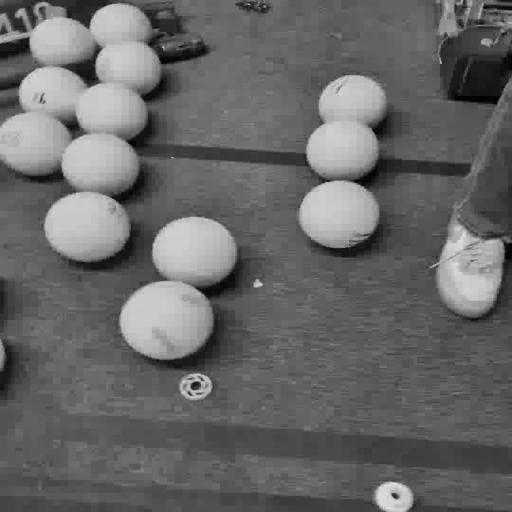fuel: (119, 281, 214, 360), (152, 217, 238, 288), (44, 192, 130, 262), (299, 181, 379, 249), (62, 134, 140, 196), (0, 112, 72, 176), (307, 120, 379, 180), (77, 84, 148, 140), (19, 67, 87, 123), (319, 75, 387, 128), (96, 42, 162, 95), (30, 18, 95, 66), (90, 3, 152, 47)
